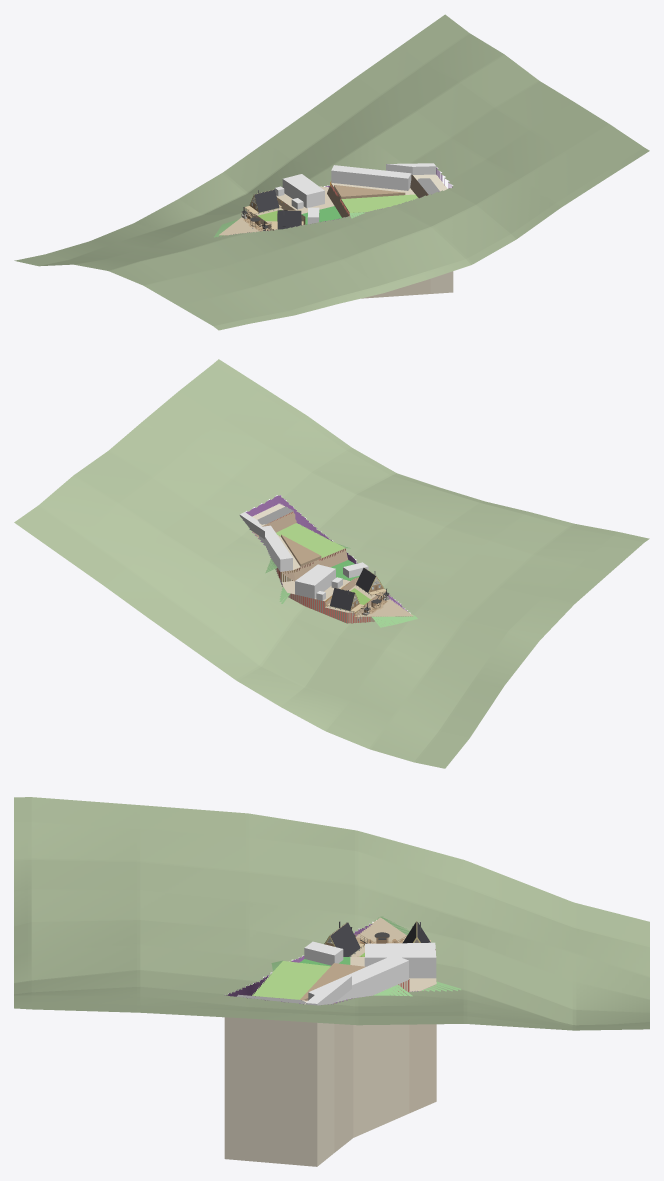
Rendered from nava_ranch_master.glb.
3 renders of one model, top to bottom at view 1: azimuth 30°, elevation 25°; view 2: azimuth 150°, elevation 25°; view 3: azimuth 270°, elevation 25°, orthographic. The views are drawn at different scales.
Parts seen in each view (by area): view 1: Terrain_outside, Mass_Multi_barn, Mass_Home, Mass_Pasture, Terrace_2, Terrace_1, Mass_Corral, Mass_Reception; view 2: Terrain_outside, Mass_Pasture, Mass_Home, Mass_Multi_barn, Retaining_N, Retaining_A70, Face_T2_T3; view 3: Terrain_outside, Terrace_1, Terrace_2, Terrace_3, Mass_Multi_barn, Mass_Pasture, Mass_Home, Mass_Greenhouse, Mass_Reception, Slopes_Bplus_neighbour, Mass_Corral, Terrace_5 (+1 smaller).
Part boxes in pixels (x1=…): Terrain_outside: x1=14, y1=14, x2=649, y2=330; Mass_Multi_barn: x1=331, y1=165, x2=411, y2=190; Mass_Home: x1=282, y1=174, x2=324, y2=208; Mass_Pasture: x1=341, y1=194, x2=417, y2=212; Terrace_2: x1=331, y1=183, x2=430, y2=298; Terrace_1: x1=413, y1=174, x2=453, y2=293; Mass_Corral: x1=334, y1=185, x2=405, y2=198; Mass_Reception: x1=386, y1=163, x2=436, y2=174; Terrain_outside: x1=14, y1=359, x2=649, y2=768; Mass_Pasture: x1=276, y1=523, x2=345, y2=557; Mass_Home: x1=295, y1=564, x2=335, y2=598; Mass_Multi_barn: x1=259, y1=525, x2=292, y2=571; Retaining_N: x1=245, y1=495, x2=407, y2=611; Retaining_A70: x1=271, y1=512, x2=370, y2=623; Face_T2_T3: x1=281, y1=548, x2=348, y2=581; Terrain_outside: x1=14, y1=797, x2=649, y2=1030; Terrace_1: x1=224, y1=1000, x2=334, y2=1166; Terrace_2: x1=334, y1=980, x2=409, y2=1152; Terrace_3: x1=350, y1=957, x2=436, y2=1113; Mass_Multi_barn: x1=308, y1=955, x2=408, y2=1002; Mass_Pasture: x1=252, y1=961, x2=330, y2=999; Mass_Home: x1=364, y1=942, x2=436, y2=978; Mass_Greenhouse: x1=304, y1=941, x2=343, y2=965; Mass_Reception: x1=305, y1=976, x2=351, y2=1005; Slopes_Bplus_neighbour: x1=271, y1=916, x2=460, y2=996; Mass_Corral: x1=300, y1=963, x2=365, y2=1000; Terrace_5: x1=356, y1=917, x2=406, y2=941.
Bounding box in the file's own units: 220 × 77.95 × 181.
